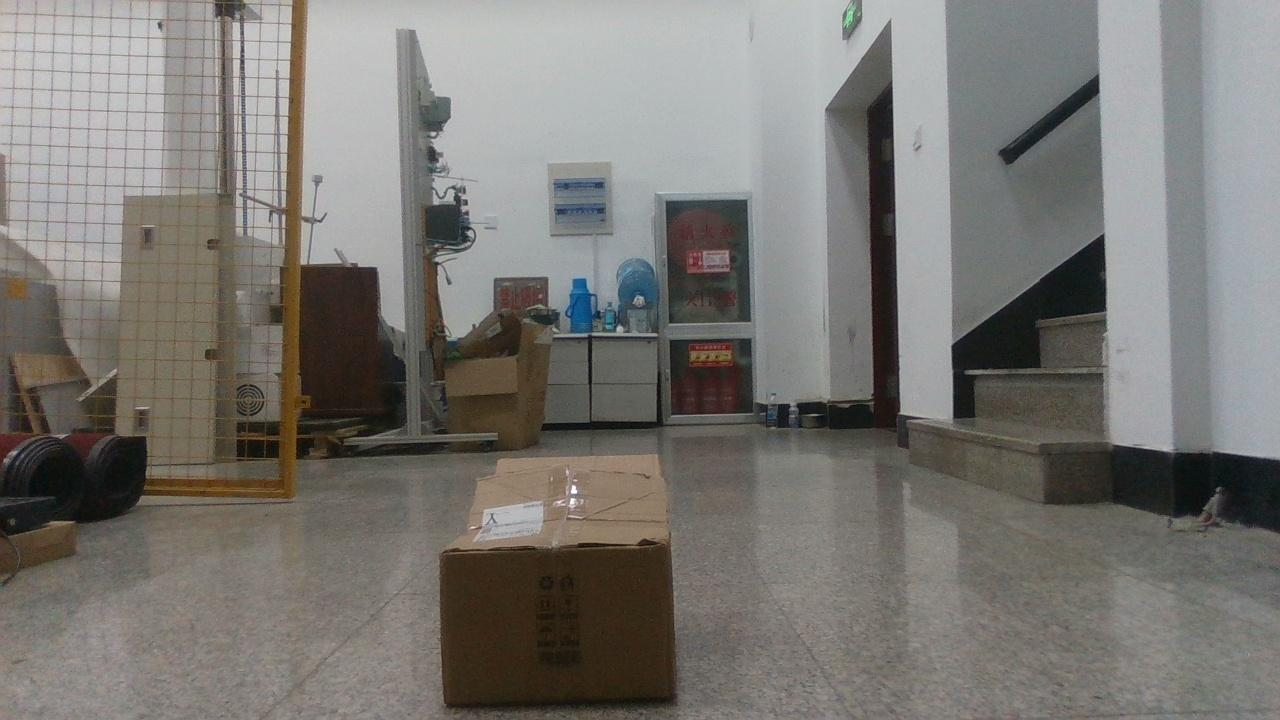box: (440, 455, 675, 705)
